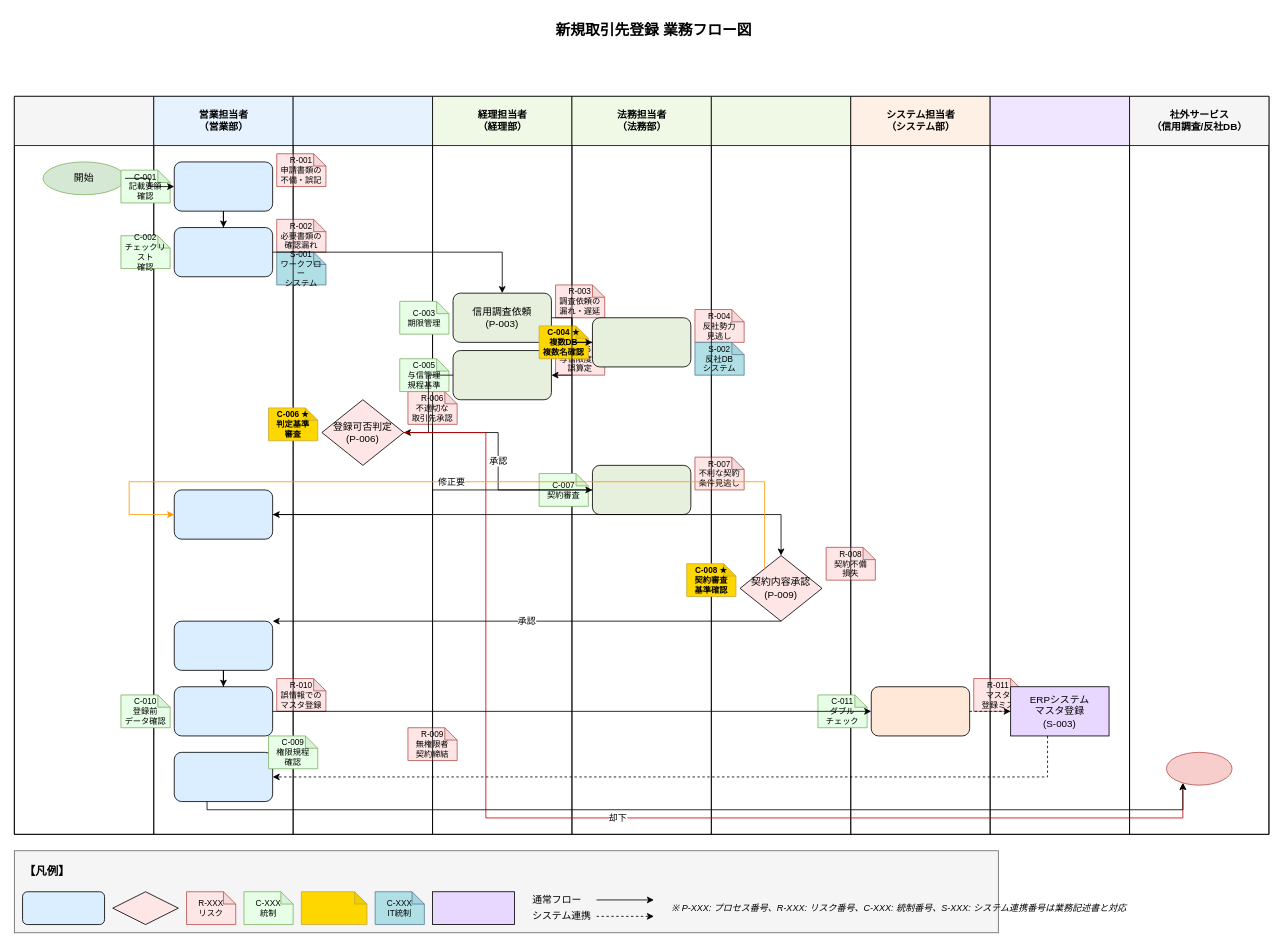
The diagram is 1283 pixels wide and 947 high, and some of its shapes have lost their labels. Here are the shapes that lost their labels. From the top down, the box of each, then its label:
(173, 161, 273, 211): 登録申請受付 (P-001)
(173, 227, 273, 277): 申請内容確認 (P-002)
(592, 317, 691, 367): 反社チェック (P-004)
(452, 350, 551, 400): 財務分析 (P-005)
(14, 96, 154, 834): 社外 （新規取引先）
(292, 96, 433, 834): 営業承認者 （営業部長）
(711, 96, 851, 834): 法務承認者 （法務部長）
(989, 96, 1130, 834): 社内システム （ワークフロー/ERP）
(592, 465, 691, 515): 基本契約締結 (P-007)
(173, 489, 273, 539): 契約交渉・調整 (P-008)
(173, 620, 273, 670): 契約書調印 (P-010)
(173, 686, 273, 736): マスタ登録依頼 (P-011)
(870, 686, 970, 736): マスタ登録実行 (P-012)
(173, 752, 273, 802): 登録完了通知 (P-013)
(1166, 752, 1232, 785): 終了
(22, 891, 105, 925): 業務プロセス
(112, 891, 178, 925): 承認・判断
(301, 891, 367, 925): C-XXX ★ キーコントロール
(432, 891, 515, 925): システム処理
